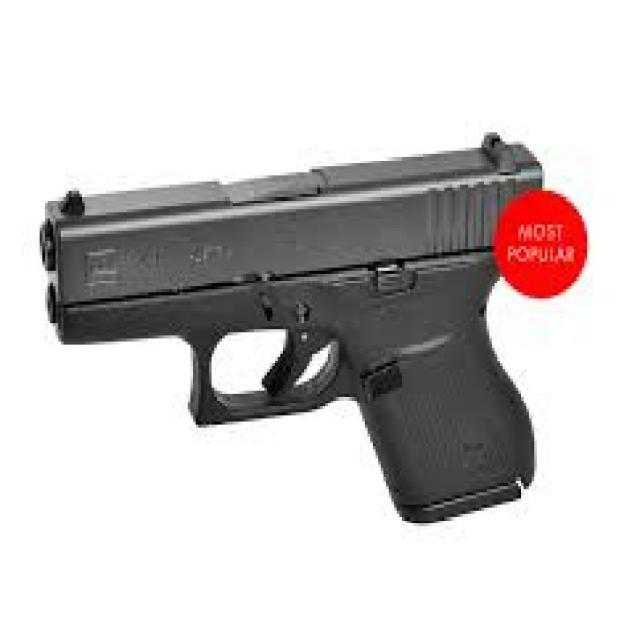semi automatic: (34, 116, 552, 546)
